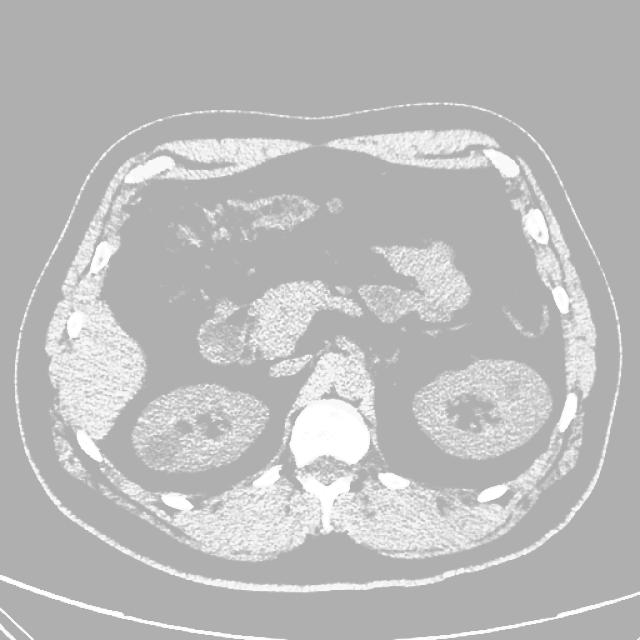cysts: (40, 115, 599, 577)
